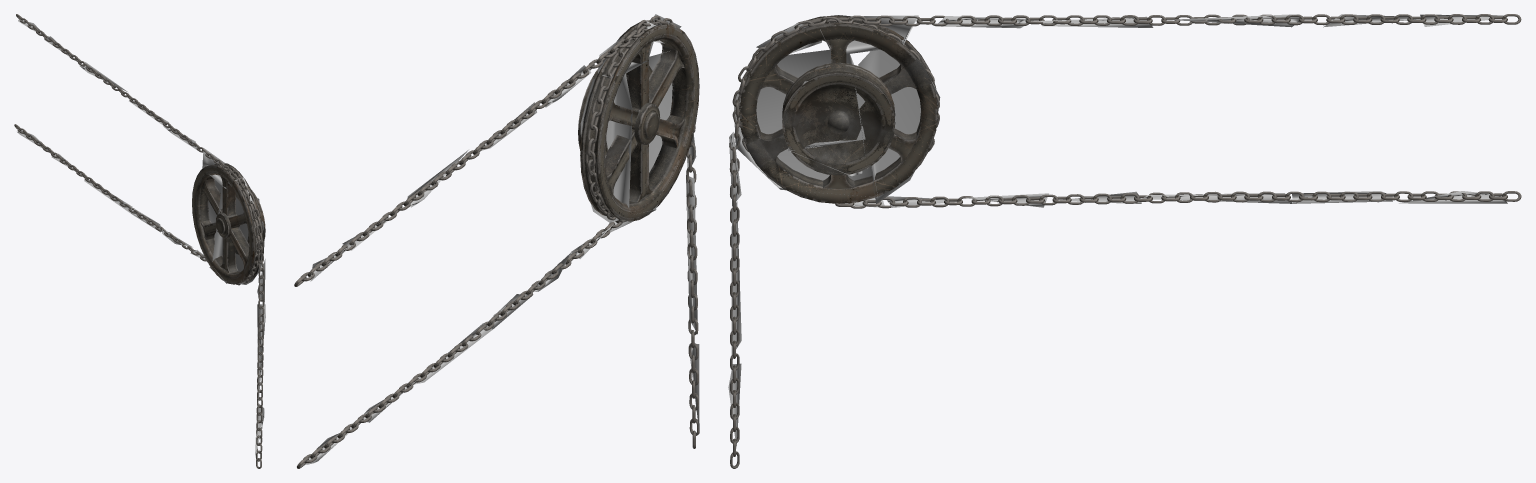
File: SM_Hook_Mech.gltf
The picture shows the model from 3 angles, left to right: view 1: azimuth 30°, elevation 25°; view 2: azimuth 150°, elevation 25°; view 3: azimuth 270°, elevation 25°; orthographic projection. The views are drawn at different scales.
Visible parts, largest first — view 1: SM_Hook_Mech_LOD0, SM_Hook_Mech_ConvexHulls; view 2: SM_Hook_Mech_LOD0, SM_Hook_Mech_ConvexHulls; view 3: SM_Hook_Mech_LOD0, SM_Hook_Mech_ConvexHulls.
Boxes of the visible parts, left/top/right/bottom form: SM_Hook_Mech_LOD0: left=14, top=14, right=265, bottom=468; SM_Hook_Mech_ConvexHulls: left=17, top=19, right=265, bottom=457; SM_Hook_Mech_LOD0: left=294, top=15, right=699, bottom=468; SM_Hook_Mech_ConvexHulls: left=305, top=14, right=699, bottom=464; SM_Hook_Mech_LOD0: left=729, top=14, right=1521, bottom=468; SM_Hook_Mech_ConvexHulls: left=728, top=14, right=1507, bottom=448.
Size of what is drawn, in the model's own units: 0.2809 by 2.53 by 3.99.
